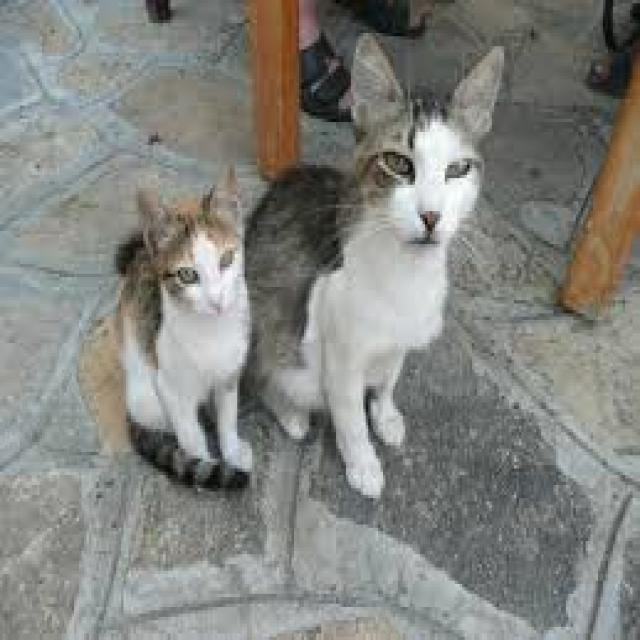cat: (246, 35, 501, 498), (117, 167, 253, 486)
